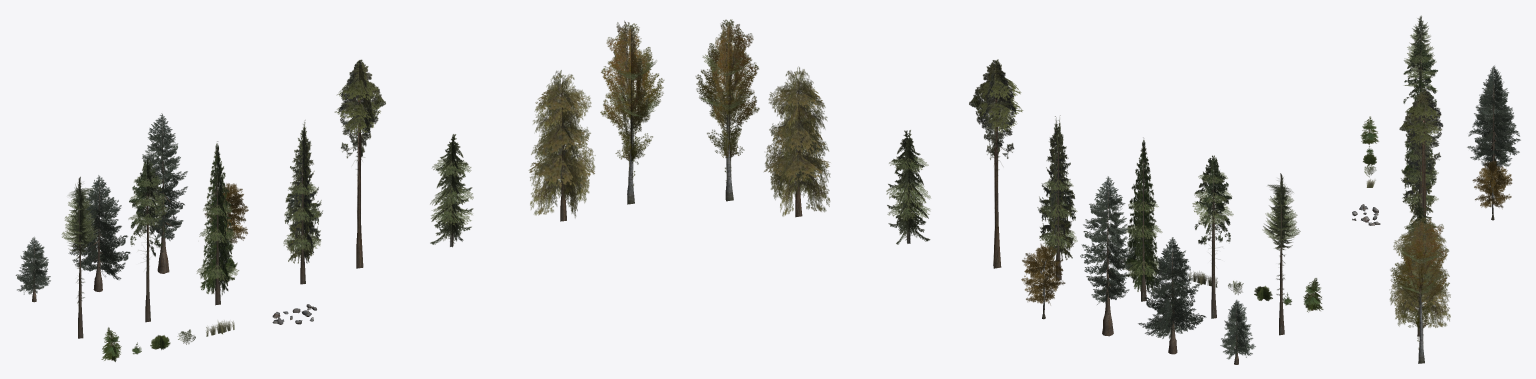
The model's file is low_poly_forest_tree_pack.glb.
3 renders of one model, left to right at view 1: azimuth 30°, elevation 25°; view 2: azimuth 150°, elevation 25°; view 3: azimuth 270°, elevation 25°, orthographic. The views are drawn at different scales.
Parts seen in each view (by area): view 1: Background_Tree_Atlas.004, Background_Tree_Atlas.001, Background_Tree_Atlas, Background_Tree_Atlas.003, Background_Tree_Atlas.005, Tree_Branches_01.002, Tree_Branches_01, Background_Tree_Atlas.002, Background_Tree_Atlas.007, Background_Tree_Atlas.006, Tree_Branches_01.001, Tree_Branches_02; view 2: Background_Tree_Atlas.004, Background_Tree_Atlas.001, Tree_Branches_01, Tree_Branches_01.002, Background_Tree_Atlas.005, Background_Tree_Atlas, Background_Tree_Atlas.003, Background_Tree_Atlas.002, Background_Tree_Atlas.007, Background_Tree_Atlas.006, Tree_Branches_02, Tree_Branches_01.001 (+1 smaller); view 3: Background_Tree_Atlas.001, Background_Tree_Atlas.004, Tree_Branches_01, Background_Tree_Atlas.005, Background_Tree_Atlas.003, Tree_Branches_01.002, Tree_Branches_02, Background_Tree_Atlas.007, Background_Tree_Atlas.006, Background_Tree_Atlas, Background_Tree_Atlas.002, Background_Tree_Atlas.009 (+1 smaller).
Part boxes in pixels (box(x1,y1,x2,y2)): Background_Tree_Atlas.004: box(528, 70, 595, 221); Background_Tree_Atlas.001: box(600, 20, 664, 204); Background_Tree_Atlas: box(197, 141, 238, 305); Background_Tree_Atlas.003: box(283, 120, 322, 284); Background_Tree_Atlas.005: box(334, 59, 385, 268); Tree_Branches_01.002: box(68, 175, 130, 279); Tree_Branches_01: box(140, 113, 187, 240); Background_Tree_Atlas.002: box(430, 134, 473, 247); Background_Tree_Atlas.007: box(128, 159, 168, 322); Background_Tree_Atlas.006: box(61, 176, 98, 338); Tree_Branches_01.001: box(15, 237, 50, 294); Tree_Branches_02: box(204, 183, 248, 243); Background_Tree_Atlas.004: box(764, 66, 830, 217); Background_Tree_Atlas.001: box(695, 19, 759, 201); Tree_Branches_01: box(1080, 176, 1135, 304); Tree_Branches_01.002: box(1138, 237, 1206, 339); Background_Tree_Atlas.005: box(969, 59, 1023, 268); Background_Tree_Atlas: box(1123, 137, 1162, 301); Background_Tree_Atlas.003: box(1037, 115, 1077, 280); Background_Tree_Atlas.002: box(886, 130, 930, 244); Background_Tree_Atlas.007: box(1192, 155, 1233, 318); Background_Tree_Atlas.006: box(1262, 173, 1300, 335); Tree_Branches_02: box(1021, 243, 1065, 304); Tree_Branches_01.001: box(1220, 300, 1255, 359); Background_Tree_Atlas.001: box(1390, 217, 1449, 363); Background_Tree_Atlas.004: box(1389, 214, 1450, 336); Tree_Branches_01: box(1475, 65, 1512, 167); Background_Tree_Atlas.005: box(1399, 89, 1443, 221); Background_Tree_Atlas.003: box(1401, 117, 1438, 215); Tree_Branches_01.002: box(1467, 81, 1520, 161); Tree_Branches_02: box(1472, 160, 1512, 208); Background_Tree_Atlas.007: box(1403, 40, 1437, 113); Background_Tree_Atlas.006: box(1404, 15, 1436, 80); Background_Tree_Atlas: box(1401, 69, 1438, 191); Background_Tree_Atlas.002: box(1401, 201, 1437, 284); Background_Tree_Atlas.009: box(1360, 116, 1378, 144).
Size of the model in its own units: 101 by 33.75 by 30.38.
6 materials, 6 textured.
